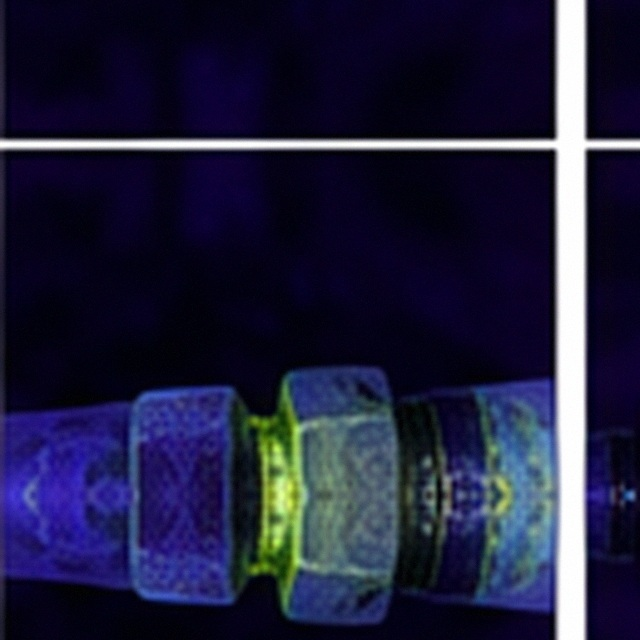hydraulic_oil_leak: (243, 376, 310, 599), (517, 417, 549, 482), (481, 404, 502, 459), (493, 473, 516, 516), (485, 518, 506, 556), (370, 405, 392, 421), (372, 570, 391, 585), (334, 416, 347, 434), (334, 557, 342, 573), (495, 465, 505, 471), (355, 576, 365, 580), (357, 410, 363, 415), (361, 399, 365, 403), (360, 588, 364, 591), (538, 509, 541, 512), (433, 508, 435, 512), (315, 553, 317, 556), (318, 541, 320, 544)
